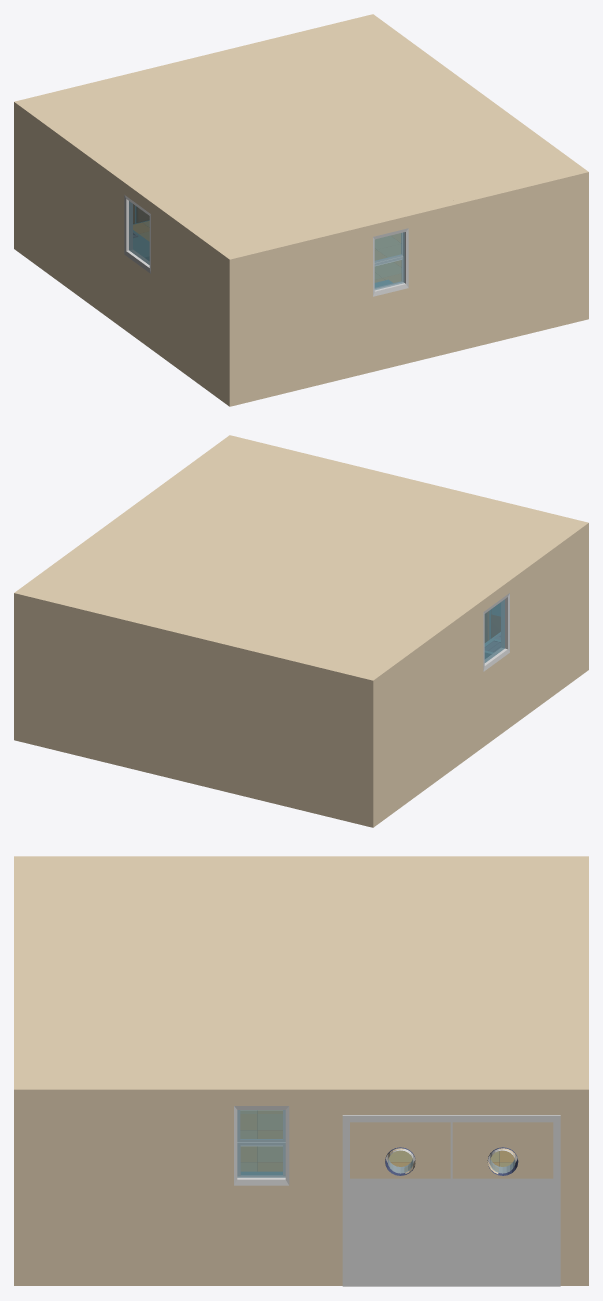
The model's file is Kitchen_final.fbx.
3 views of the same model, one above another, from view 1: azimuth 30°, elevation 25°; view 2: azimuth 150°, elevation 25°; view 3: azimuth 270°, elevation 25° (orthographic). The views are drawn at different scales.
Parts seen in each view (by area): view 1: kitchen_structure_3, kitchen structure_1, kitchen_structure_2, kitchen_structure_3.001, kitchen structure_1.001, floor tile.003; view 2: kitchen structure_1, kitchen_structure_2, kitchen_structure_3, kitchen structure_1.001; view 3: kitchen_structure_2, kitchen structure_1, kitchen_structure_3, door, window.001, floor tile.001, floor tile.
Part boxes in pixels (x1,y1,x2,y2): kitchen_structure_3: (154,149,458,406); kitchen structure_1: (14,46,383,351); kitchen_structure_2: (243,14,588,350); kitchen_structure_3.001: (373,228,408,296); kitchen structure_1.001: (124,195,150,273); floor tile.003: (375,244,401,282); kitchen structure_1: (144,522,513,827); kitchen_structure_2: (14,435,359,771); kitchen_structure_3: (285,467,588,724); kitchen structure_1.001: (483,593,509,671); kitchen_structure_2: (14,1005,588,1285); kitchen structure_1: (214,856,588,1004); kitchen_structure_3: (14,856,214,1004); door: (342,1115,560,1286); window.001: (234,1106,289,1185); floor tile.001: (240,1110,282,1171); floor tile: (389,1150,514,1166).
Bounding box in the file's own units: 420 × 163 × 434.
